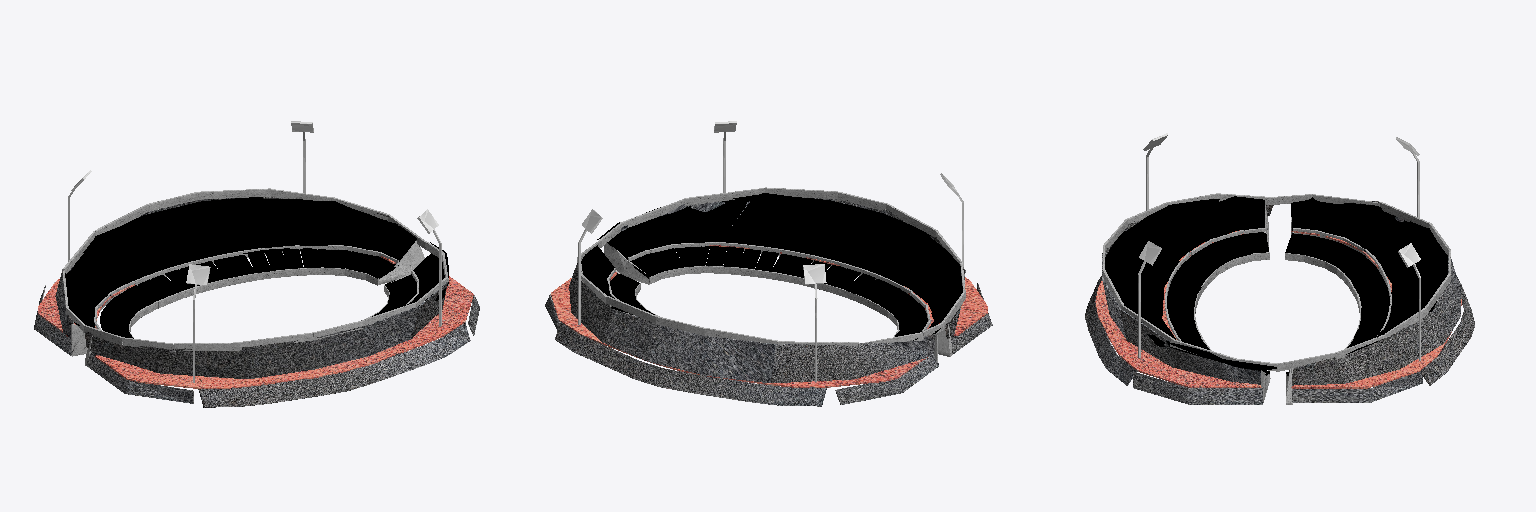
3 views of the same model, side by side, from view 1: azimuth 30°, elevation 25°; view 2: azimuth 150°, elevation 25°; view 3: azimuth 270°, elevation 25° (orthographic).
Visible parts, largest first — view 1: pasted__pCube13 group122, pasted__pasted__pasted__pasted__pCube5 pasted__pasted__pasted__g, pCube9, pCube6, pCube14, pCube17, pCube16, pasted__group12 group29 pasted__pasted__pasted__pasted__pCube2 p, group29 pasted__pasted__pasted__pCube2 pasted__pasted__group5 pa, group118 pasted__pCube10, pasted__pasted__group56 pasted__group57 group59 pasted__pasted__, pCube15 (+10 smaller); view 2: pasted__pasted__pasted__pCube5 pasted__pasted__group93 pasted__g, group123 pasted__pasted__pCube13 pasted__group122, pasted__pCube9 group117, group123 pasted__pCube17, pasted__pCube6 group111, group123 pasted__pCube14, pasted__pasted__pasted__pCube2 pasted__pasted__group5 pasted__gr, pasted__pCube11 group118, group12 pasted__pasted__pasted__pCube2 pasted__pasted__group5 pa, pasted__group56 group57 pasted__pasted__pasted__pCube2 pasted__p, pCube6, pasted__pCube16 group123 (+7 smaller); view 3: pasted__pasted__pasted__pCube5 pasted__pasted__group93 pasted__g, pCube17, pasted__pCube13 group122, group123 pasted__pasted__pCube13 pasted__group122, pasted__pasted__pasted__pasted__pCube5 pasted__pasted__pasted__g, pCube6, pCube11, group123 pasted__pCube14, pCube10, pasted__pCube16 group123, pasted__pCube9 group117, pCube9 (+10 smaller).
Boxes of the visible parts, box(x1,y1,x2,y2) form: pasted__pCube13 group122: box(94, 197, 290, 290); pasted__pasted__pasted__pasted__pCube5 pasted__pasted__pasted__g: box(85, 282, 447, 378); pCube9: box(198, 322, 470, 407); pCube6: box(95, 276, 473, 388); pCube14: box(264, 199, 335, 247); pCube17: box(65, 240, 111, 327); pCube16: box(329, 202, 387, 248); pasted__group12 group29 pasted__pasted__pasted__pasted__pCube2 p: box(214, 248, 320, 278); group29 pasted__pasted__pasted__pCube2 pasted__pasted__group5 pa: box(116, 266, 208, 311); group118 pasted__pCube10: box(86, 352, 193, 403); pasted__pasted__group56 pasted__group57 group59 pasted__pasted__: box(94, 245, 398, 329); pCube15: box(364, 222, 416, 261); pasted__pasted__pasted__pCube5 pasted__pasted__group93 pasted__g: box(569, 263, 935, 382); group123 pasted__pasted__pCube13 pasted__group122: box(721, 193, 930, 285); pasted__pCube9 group117: box(555, 322, 826, 406); group123 pasted__pCube17: box(597, 195, 756, 259); pasted__pCube6 group111: box(551, 272, 927, 387); group123 pasted__pCube14: box(885, 237, 958, 298); pasted__pasted__pasted__pCube2 pasted__pasted__group5 pasted__gr: box(630, 248, 927, 329); pasted__pCube11 group118: box(835, 353, 938, 404); group12 pasted__pasted__pasted__pCube2 pasted__pasted__group5 pa: box(824, 265, 909, 310); pasted__group56 group57 pasted__pasted__pasted__pCube2 pasted__p: box(628, 242, 930, 331); pCube6: box(709, 245, 987, 335); pasted__pCube16 group123: box(923, 264, 962, 311); pasted__pasted__pasted__pCube5 pasted__pasted__group93 pasted__g: box(1289, 201, 1460, 385); pCube17: box(1291, 197, 1425, 253); pasted__pCube13 group122: box(1372, 228, 1447, 332); group123 pasted__pasted__pCube13 pasted__group122: box(1105, 231, 1179, 339); pasted__pasted__pasted__pasted__pCube5 pasted__pasted__pasted__g: box(1102, 205, 1273, 384); pCube6: box(1095, 230, 1261, 387); pCube11: box(1133, 371, 1262, 404); group123 pasted__pCube14: box(1126, 205, 1197, 268); pCube10: box(1292, 370, 1422, 402); pasted__pCube16 group123: box(1168, 199, 1224, 246); pasted__pCube9 group117: box(1422, 277, 1474, 385); pCube9: box(1085, 276, 1137, 385).
Size of the model in its own units: 44.15 by 14.9 by 41.91.
Materials: 5 (4 with a texture image).